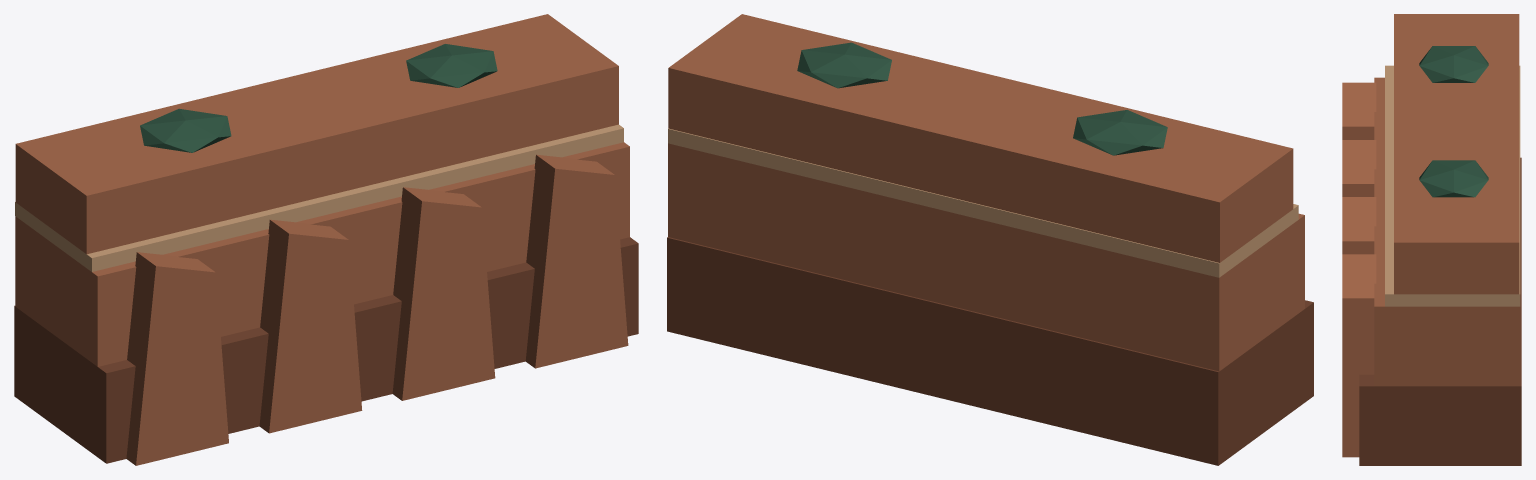
File: Desert_CanyonWall_Showcase.glb
The picture shows the model from 3 angles, left to right: view 1: azimuth 30°, elevation 25°; view 2: azimuth 150°, elevation 25°; view 3: azimuth 270°, elevation 25°; orthographic projection. The views are drawn at different scales.
Visible parts, largest first — view 1: Desert_CanyonWall_Showcase; view 2: Desert_CanyonWall_Showcase; view 3: Desert_CanyonWall_Showcase.
Boxes of the visible parts, bbox=[...] form: Desert_CanyonWall_Showcase: bbox=[14, 14, 638, 465]; Desert_CanyonWall_Showcase: bbox=[667, 14, 1313, 465]; Desert_CanyonWall_Showcase: bbox=[1342, 14, 1521, 465].
Size of the model in its own units: 8 by 3.9 by 2.65.
